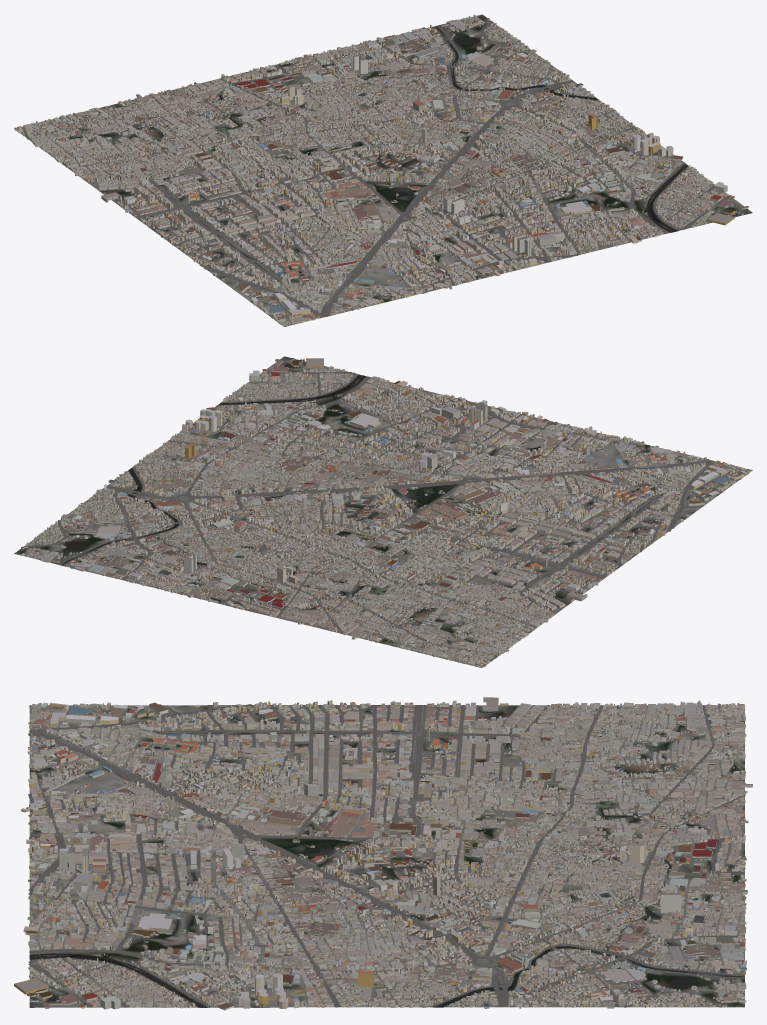
3 renders of one model, top to bottom at view 1: azimuth 30°, elevation 25°; view 2: azimuth 150°, elevation 25°; view 3: azimuth 270°, elevation 25°, orthographic. The views are drawn at different scales.
Visible parts, largest first — view 1: buildings, ground, roads, water; view 2: buildings, ground, roads, water; view 3: buildings, ground, roads, water.
Boxes of the visible parts, x1,y1,x2,y2 form: buildings: (14, 14, 748, 326); ground: (14, 14, 752, 326); roads: (21, 20, 729, 326); water: (299, 26, 687, 276); buildings: (20, 358, 751, 667); ground: (14, 356, 747, 667); roads: (25, 367, 752, 666); water: (62, 374, 640, 564); buildings: (14, 697, 752, 1010); ground: (29, 705, 744, 1007); roads: (28, 704, 745, 1007); water: (29, 746, 742, 1007).
Size of the model in its own units: 2863 by 93.62 by 2894.
